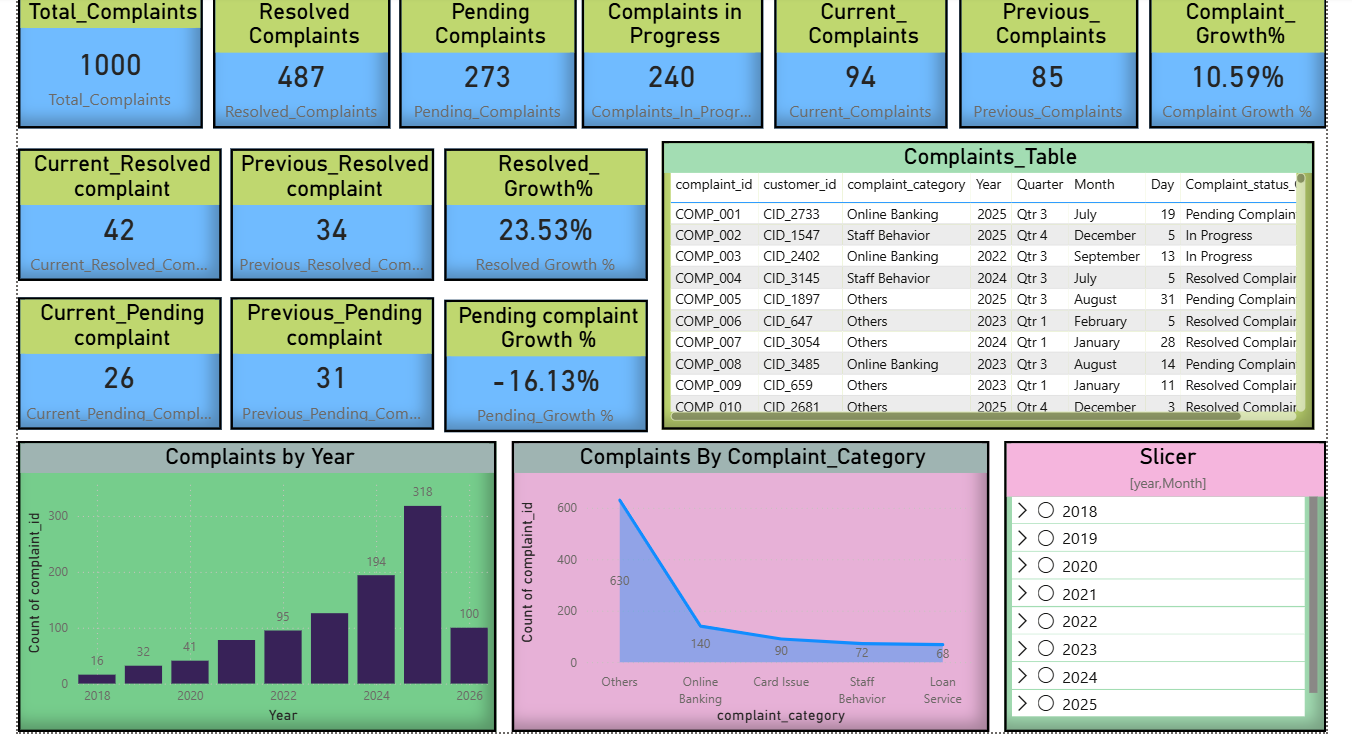

The dashboard page shown, as its layout file describes it:
{"tool":"powerbi","page":{"name":"Complaints_Analysis","canvas":[1280,720],"ordinal":4},"visuals":[{"type":"card","title":"Total_Complaints","fields":{"Values":["All Measures.Total_Complaints"]},"box":[0,0,181,129.6],"z":0},{"type":"card","title":"Resolved Complaints","fields":{"Values":["All Measures.Current_Resolved_Complaints"]},"box":[190.8,0,173.6,129.6],"z":1},{"type":"card","title":"Pending Complaints","fields":{"Values":["All Measures.Pending_Complaints"]},"box":[373,0,173.6,129.6],"z":2},{"type":"card","title":" Complaints in Progress","fields":{"Values":["All Measures.Complaints_In_Progress"]},"box":[551.5,0,177.3,129.6],"z":3},{"type":"card","title":" Complaint_ Growth% ","fields":{"Values":["All Measures.Complaint Growth %"]},"box":[1106.7,0,173.6,129.6],"z":4},{"type":"card","title":"Previous_ Complaints ","fields":{"Values":["All Measures.Previous_Complaints"]},"box":[920.8,0,174.9,129.6],"z":5},{"type":"card","title":"Current_ Complaints","fields":{"Values":["All Measures.Current_Complaints"]},"box":[739.8,0,170,129.6],"z":6},{"type":"card","title":"Current_Resolved complaint","fields":{"Values":["All Measures.Current_Resolved_Complaint"]},"box":[0,149.2,199.3,129.6],"z":7},{"type":"card","title":"Previous_Resolved complaint","fields":{"Values":["All Measures.Previous_Resolved_Complaint"]},"box":[207.9,149.2,199.3,129.6],"z":8},{"type":"card","title":"Resolved_ Growth% ","fields":{"Values":["All Measures.Resolved Growth %"]},"box":[417,149.2,199.3,129.6],"z":9},{"type":"stackedAreaChart","title":"Complaints By Complaint_Category","fields":{"Category":["complaints_Data.complaint_category"],"Y":["CountNonNull(complaints_Data.complaint_id)"]},"box":[483,435.3,467.1,284.9],"z":10},{"type":"columnChart","title":" Complaints by Year","fields":{"Y":["CountNonNull(complaints_Data.complaint_id)"],"Category":["complaints_Data.Year"]},"box":[0,435.3,468.3,284.9],"z":11},{"type":"listSlicer","title":"Slicer","fields":{"Values":["complaints_Data.complaint_date.Variation.Date Hierarchy.Year","complaints_Data.complaint_date.Variation.Date Hierarchy.Month"]},"box":[964.8,435.3,315.5,284.9],"z":12},{"type":"card","title":"Current_Pending complaint","fields":{"Values":["All Measures.Current_Pending_Complaint"]},"box":[0,294.7,199.3,129.6],"z":13},{"type":"card","title":"Previous_Pending complaint","fields":{"Values":["All Measures.Previous_Pending_Complaint"]},"box":[207.9,294.7,199.3,129.6],"z":14},{"type":"card","title":"Pending complaint Growth %","fields":{"Values":["All Measures.Pending_Growth %"]},"box":[417,297.1,199.3,129.6],"z":15},{"type":"tableEx","title":"Complaints_Table","fields":{"Values":["complaints_Data.complaint_id","complaints_Data.customer_id","complaints_Data.complaint_category","complaints_Data.complaint_date.Variation.Date Hierarchy.Year","complaints_Data.complaint_date.Variation.Date Hierarchy.Quarter","complaints_Data.complaint_date.Variation.Date Hierarchy.Month","complaints_Data.complaint_date.Variation.Date Hierarchy.Day","complaints_Data.Complaint_status_Category"]},"box":[629.8,141.8,638.3,282.5],"z":16}]}

Visuals, with their boxes on the page's 1280x720 design canvas (x1, y1, x2, y2). These are canvas units, not pixel positions in the 1352x737 screenshot, which may show the page scaled, cropped or inside an application window:
"Total_Complaints" card: (left=0, top=0, right=181, bottom=130)
"Resolved Complaints" card: (left=191, top=0, right=364, bottom=130)
"Pending Complaints" card: (left=373, top=0, right=547, bottom=130)
" Complaints in Progress" card: (left=552, top=0, right=729, bottom=130)
" Complaint_ Growth% " card: (left=1107, top=0, right=1280, bottom=130)
"Previous_ Complaints " card: (left=921, top=0, right=1096, bottom=130)
"Current_ Complaints" card: (left=740, top=0, right=910, bottom=130)
"Current_Resolved complaint" card: (left=0, top=149, right=199, bottom=279)
"Previous_Resolved complaint" card: (left=208, top=149, right=407, bottom=279)
"Resolved_ Growth% " card: (left=417, top=149, right=616, bottom=279)
"Complaints By Complaint_Category" stackedAreaChart: (left=483, top=435, right=950, bottom=720)
" Complaints by Year" columnChart: (left=0, top=435, right=468, bottom=720)
"Slicer" listSlicer: (left=965, top=435, right=1280, bottom=720)
"Current_Pending complaint" card: (left=0, top=295, right=199, bottom=424)
"Previous_Pending complaint" card: (left=208, top=295, right=407, bottom=424)
"Pending complaint Growth %" card: (left=417, top=297, right=616, bottom=427)
"Complaints_Table" tableEx: (left=630, top=142, right=1268, bottom=424)
